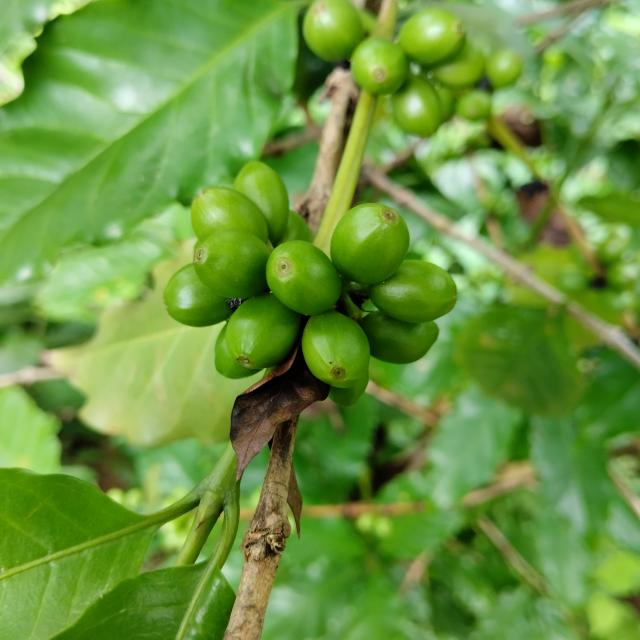green: (330, 203, 410, 285), (266, 240, 342, 316), (225, 293, 301, 369), (368, 260, 458, 323), (302, 310, 371, 388), (193, 229, 271, 298), (234, 161, 289, 243), (191, 187, 269, 243), (163, 263, 231, 327), (362, 311, 440, 364), (399, 7, 466, 65), (302, 0, 364, 61), (351, 36, 409, 95), (394, 75, 442, 137), (214, 324, 262, 379), (433, 41, 486, 87), (329, 373, 369, 407), (276, 210, 314, 245)
